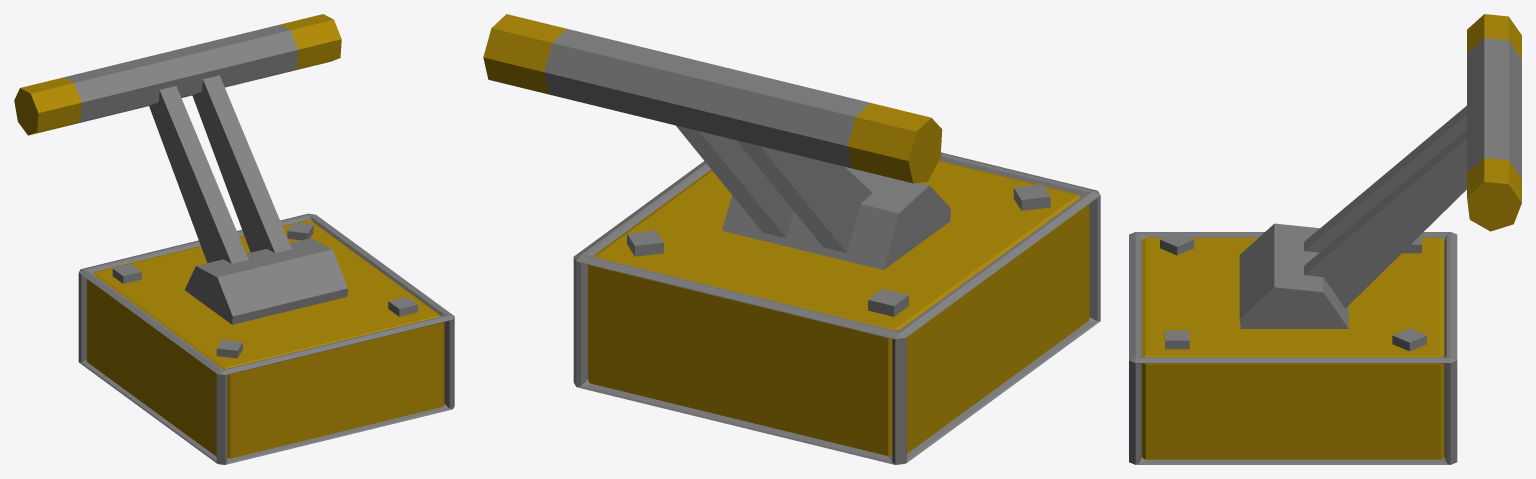
Rendered from lever.glb.
3 renders of one model, left to right at view 1: azimuth 30°, elevation 25°; view 2: azimuth 150°, elevation 25°; view 3: azimuth 270°, elevation 25°, orthographic. The views are drawn at different scales.
Parts seen in each view (by area): view 1: lever-box, lever; view 2: lever-box, lever; view 3: lever-box, lever.
Part boxes in pixels (x1,y1,x2,y2): lever-box: (78,213,454,464); lever: (14,14,347,324); lever-box: (573,152,1100,464); lever: (483,14,950,269); lever-box: (1129,232,1457,464); lever: (1239,14,1521,328).
Bounding box in the file's own units: 0.7 × 0.5905 × 0.6925.
